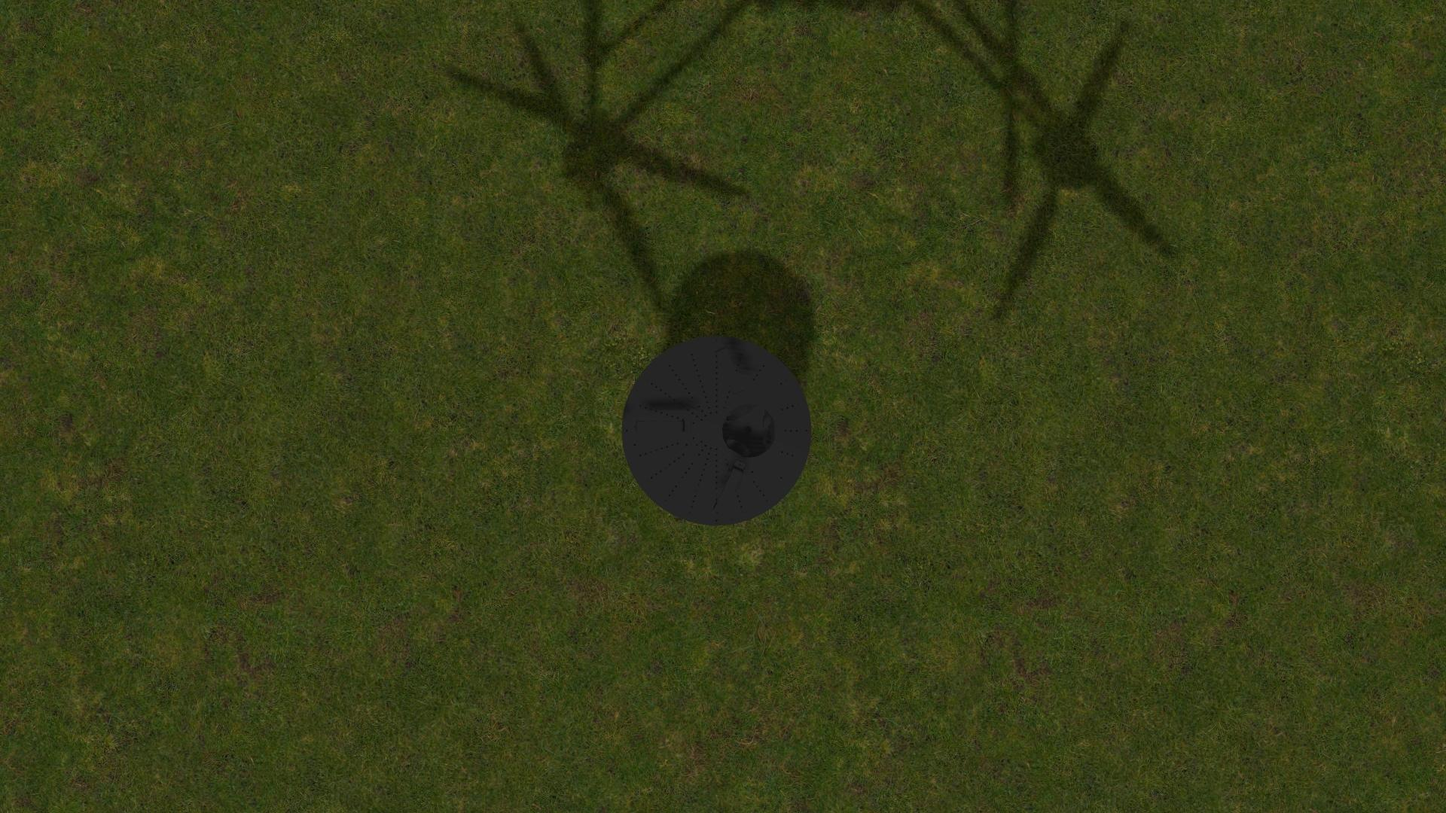alca: (710, 459, 746, 517), (713, 343, 747, 399), (632, 420, 691, 434)
armadilha: (622, 335, 812, 526)
